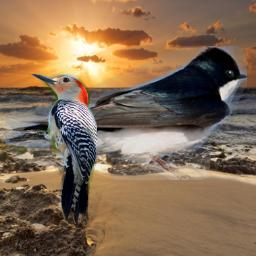Swallow: (5, 46, 247, 180)
Woodpecker: (20, 74, 97, 224)
